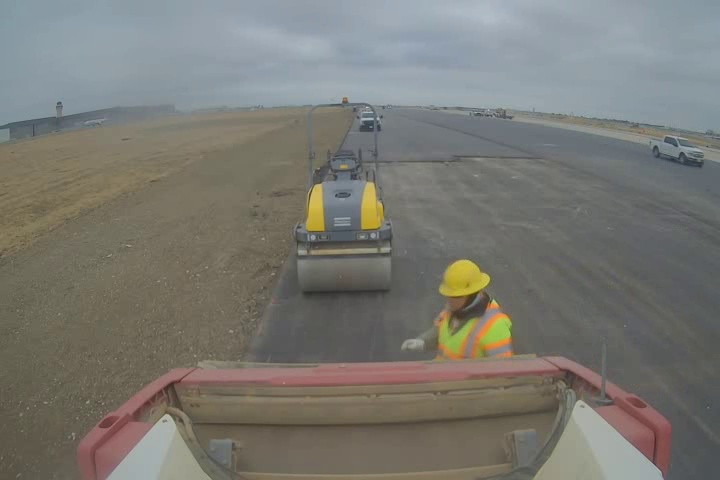person: (399, 256, 519, 368)
vehicle: (72, 351, 671, 480), (293, 102, 394, 293), (644, 129, 712, 168), (351, 108, 385, 130)
vest: (418, 294, 513, 359)
yellow_helmet: (433, 257, 493, 320)
